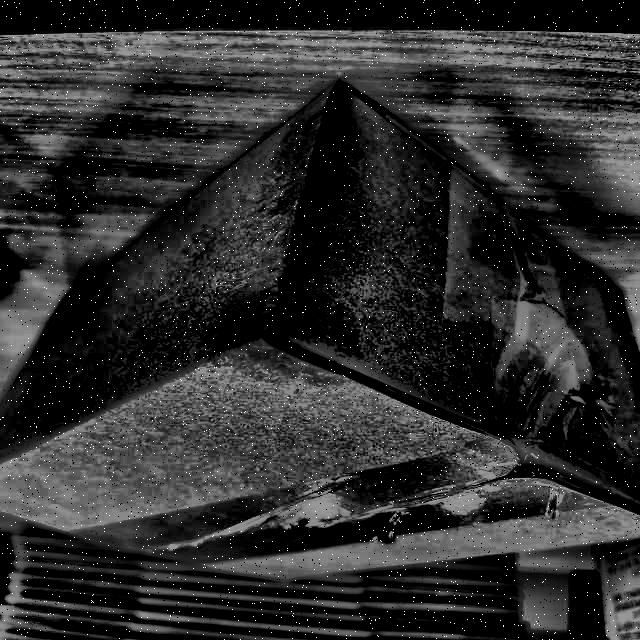box: (1, 75, 640, 586)
wet: (210, 159, 356, 385)
